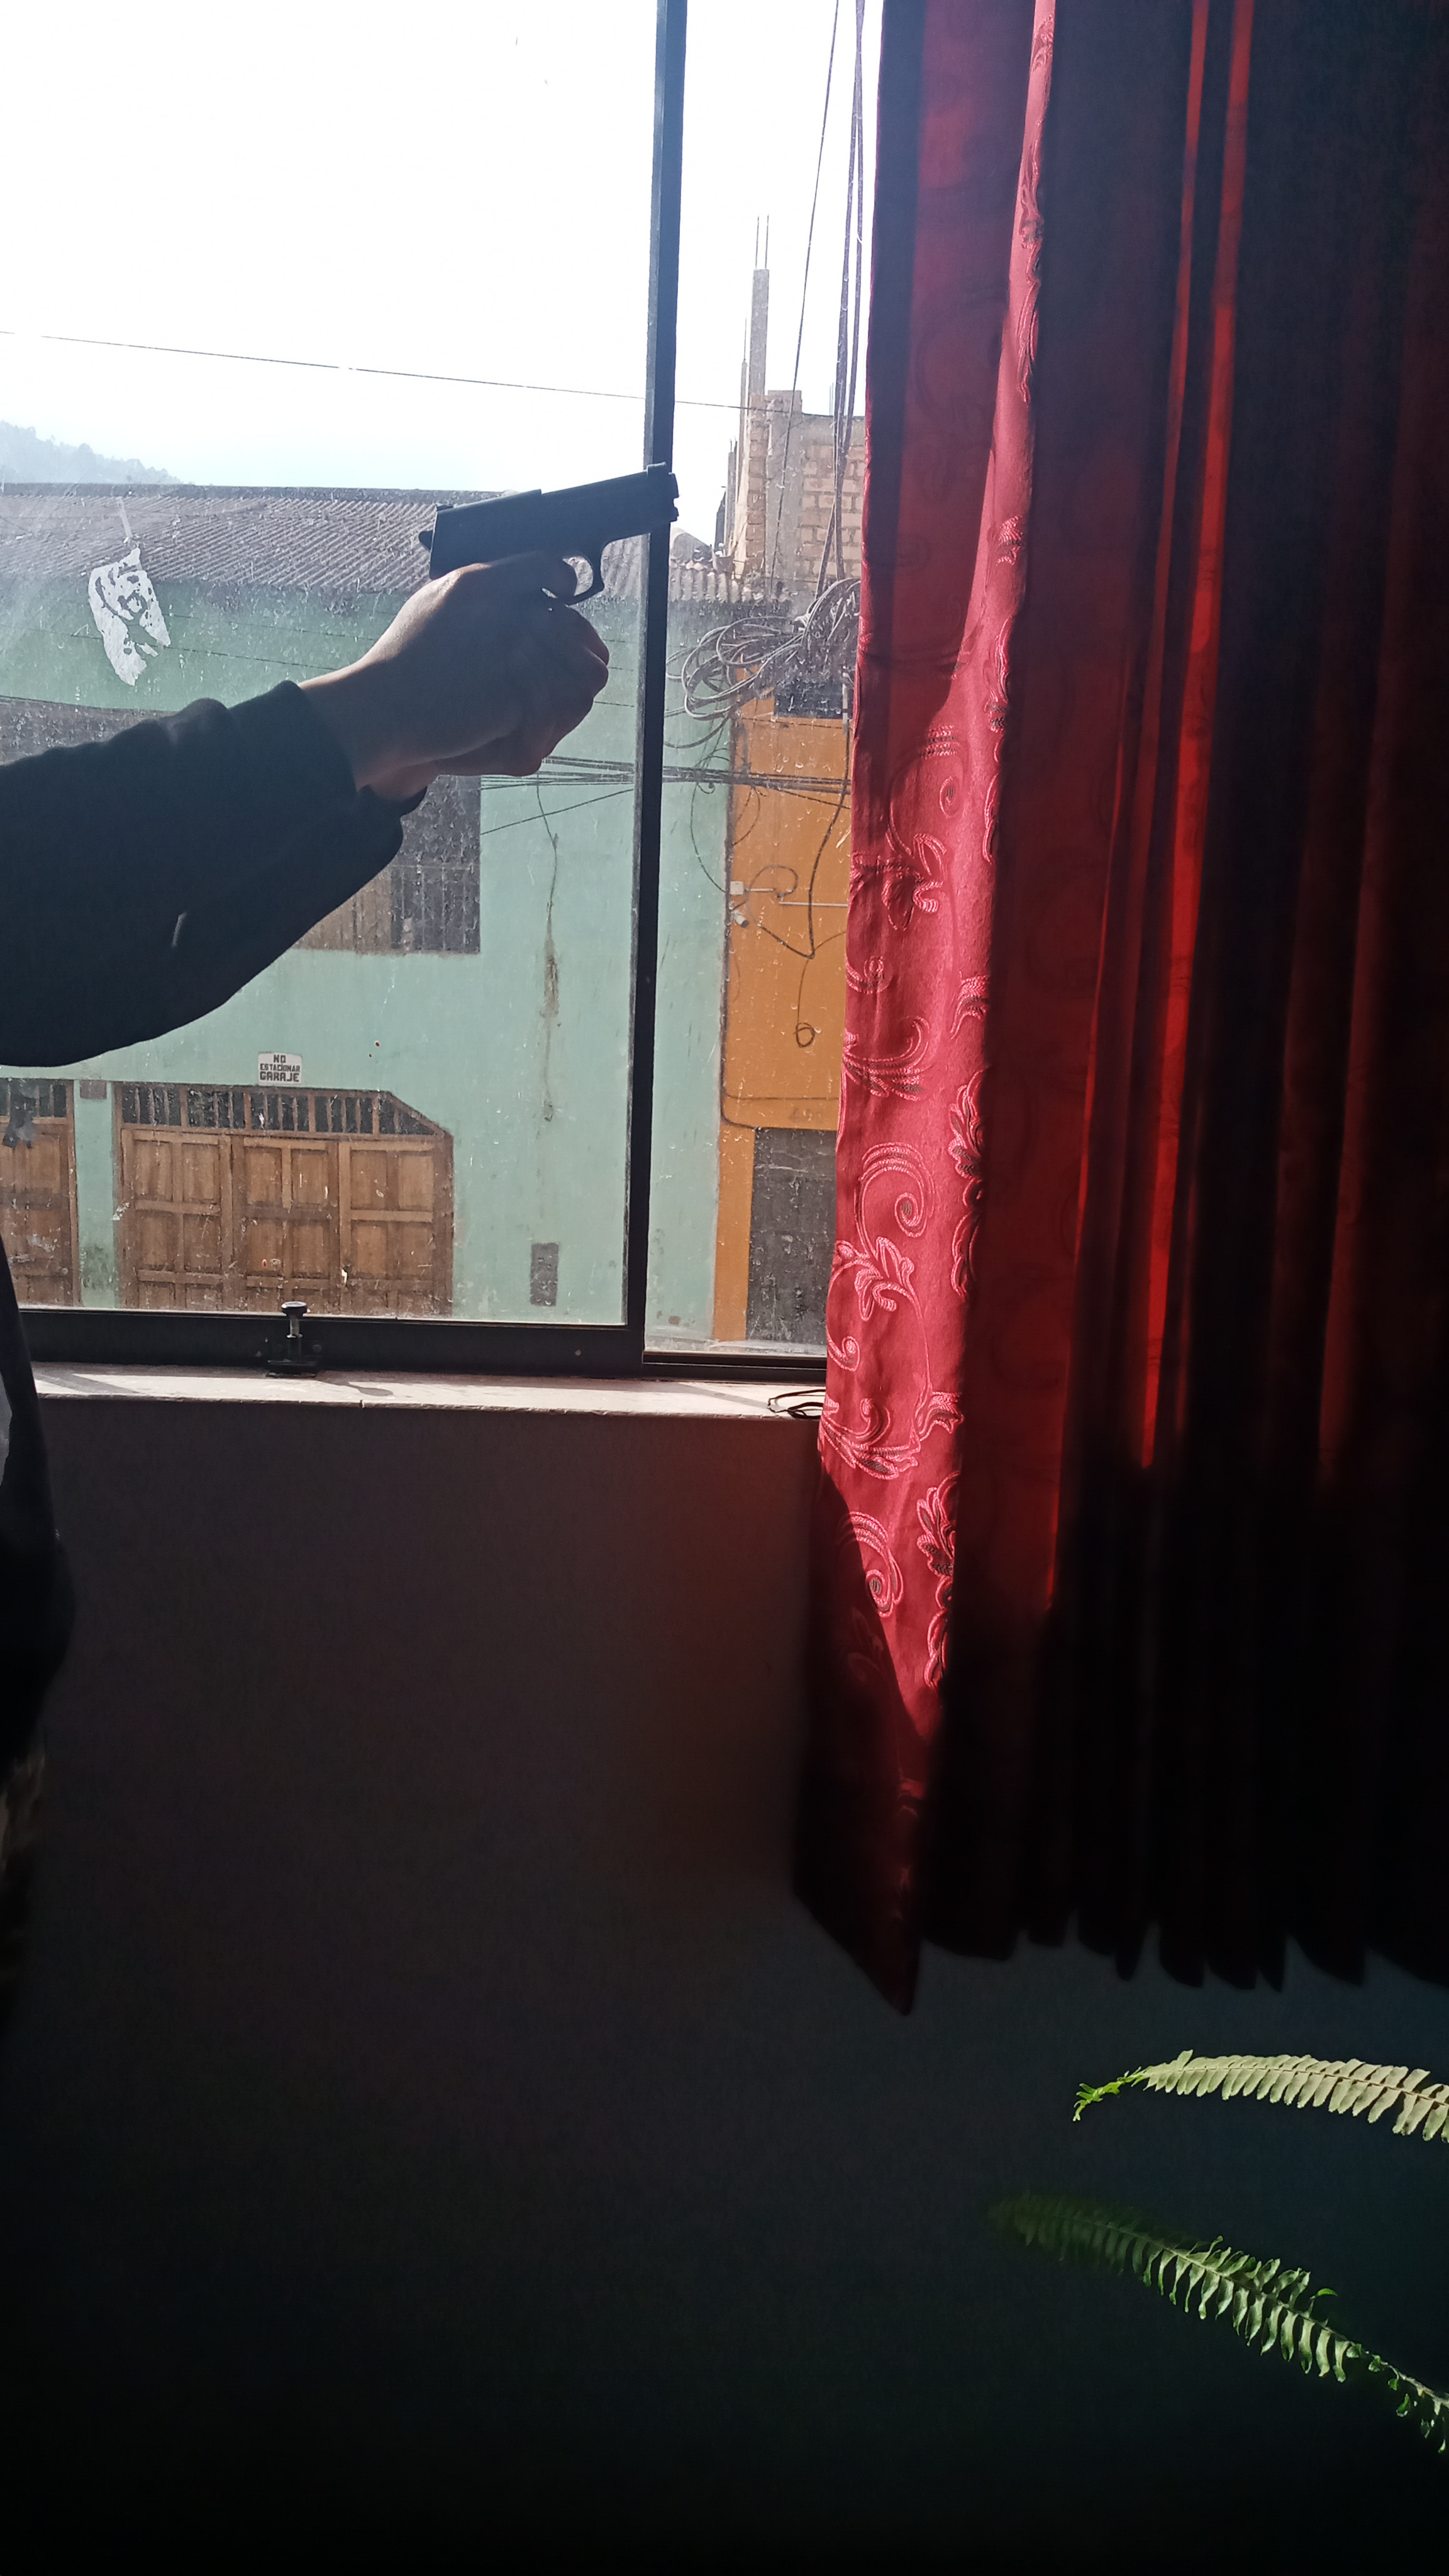Arma: (439, 458, 671, 587)
